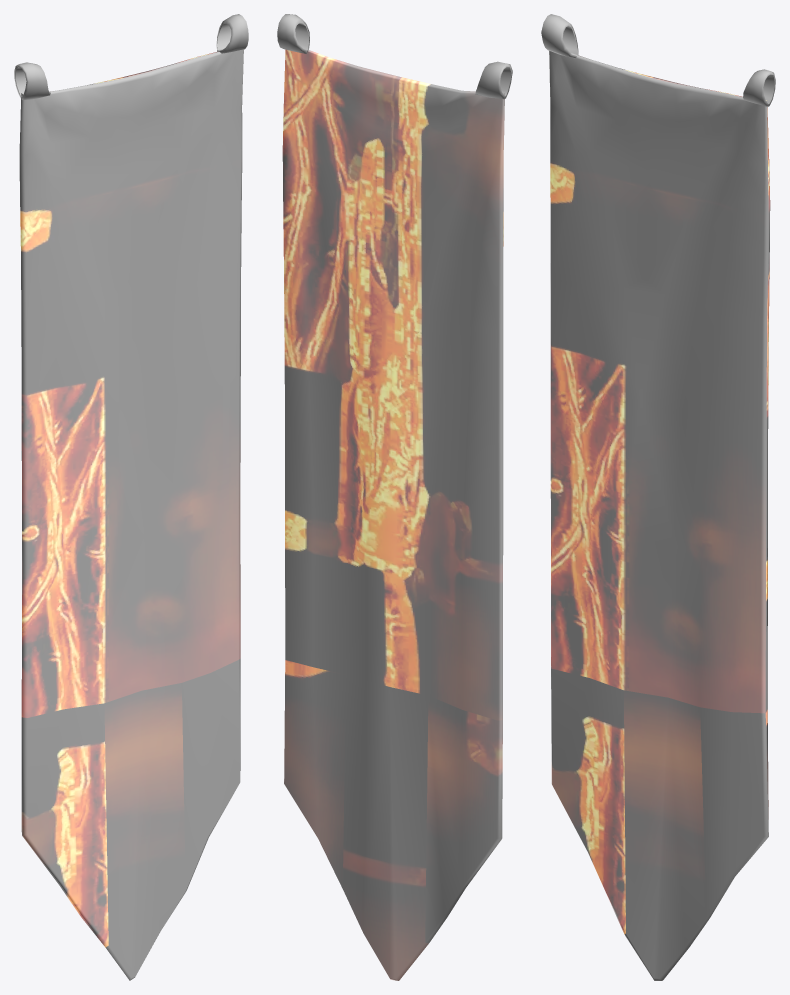
3 views of the same model, side by side, from view 1: azimuth 30°, elevation 25°; view 2: azimuth 150°, elevation 25°; view 3: azimuth 330°, elevation 25° (orthographic).
Parts seen in each view (by area): view 1: SM_Wall_Torch_01v1_LOD0; view 2: SM_Wall_Torch_01v1_LOD0; view 3: SM_Wall_Torch_01v1_LOD0.
Boxes of the visible parts, x1=… form: SM_Wall_Torch_01v1_LOD0: x1=14, y1=14, x2=248, y2=980; SM_Wall_Torch_01v1_LOD0: x1=277, y1=14, x2=512, y2=980; SM_Wall_Torch_01v1_LOD0: x1=541, y1=14, x2=775, y2=980.
Size of the model in its own units: 0.8268 by 3.35 by 0.101.
